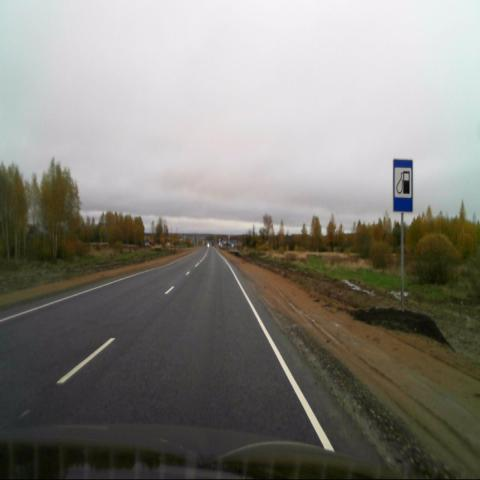7_3: (393, 159, 413, 211)
